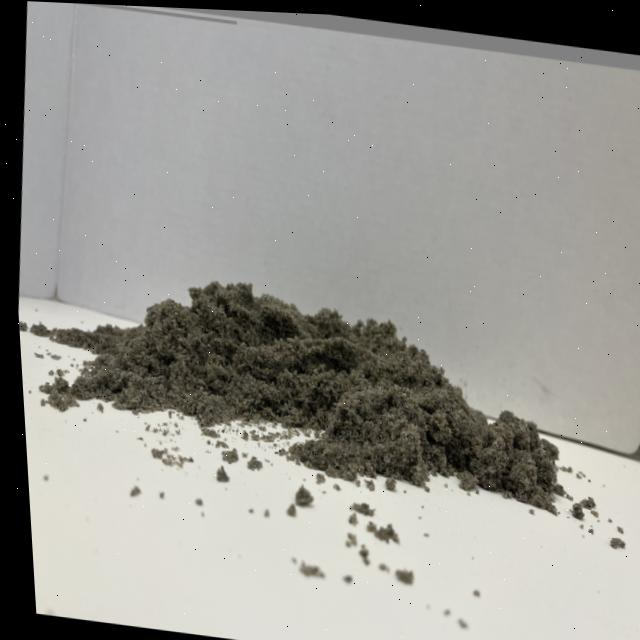sand: (31, 245, 547, 511)
